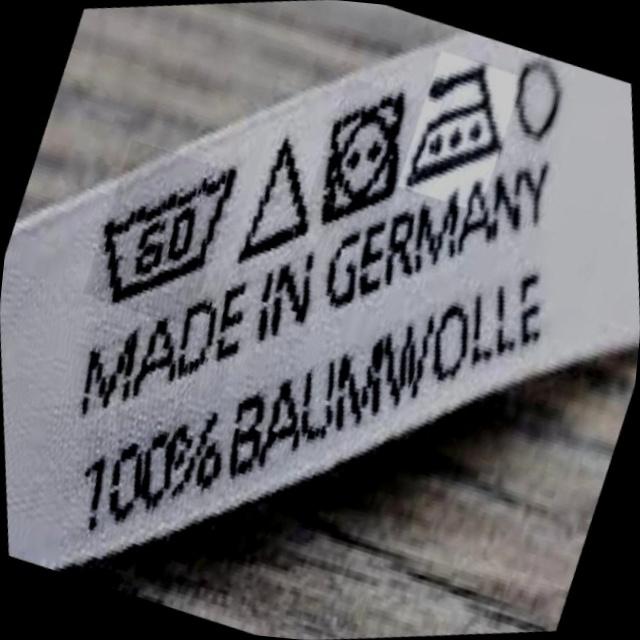60C: (72, 147, 257, 314)
bleach: (226, 125, 327, 270)
iron_high: (393, 48, 520, 197)
tumble_dry_medium: (305, 79, 422, 229)
